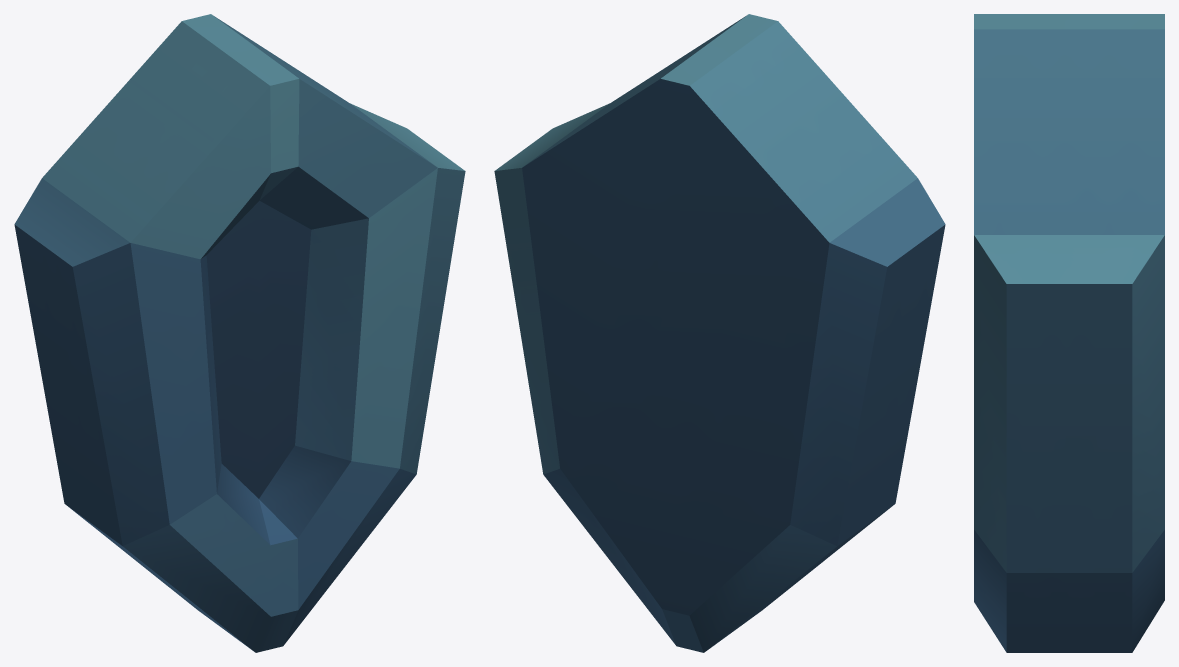
The model's file is ornament_7.fbx.
3 renders of one model, left to right at view 1: azimuth 30°, elevation 25°; view 2: azimuth 150°, elevation 25°; view 3: azimuth 270°, elevation 25°, orthographic. The views are drawn at different scales.
Parts seen in each view (by area): view 1: ornament_7; view 2: ornament_7; view 3: ornament_7.
Part boxes in pixels (x1,y1,x2,y2): ornament_7: [14, 14, 465, 652]; ornament_7: [494, 14, 945, 652]; ornament_7: [974, 14, 1164, 652].
Size of the model in its own units: 83.68 by 118 by 32.63.
